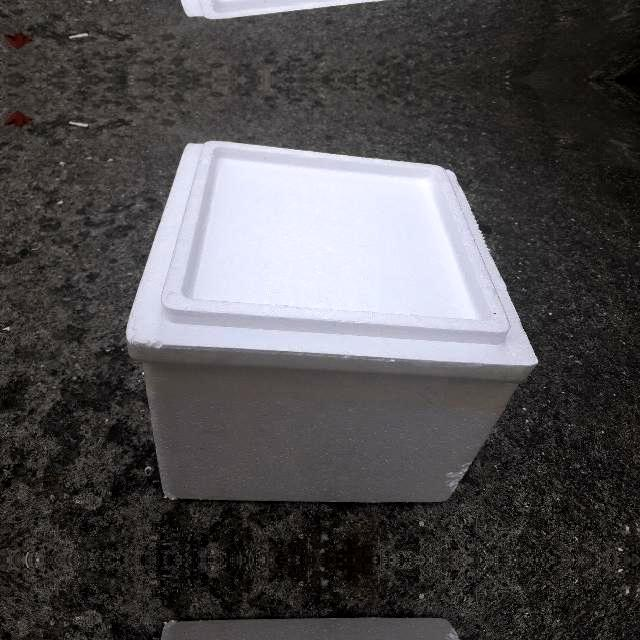Styrofoam: (125, 138, 540, 504), (126, 140, 538, 502)
